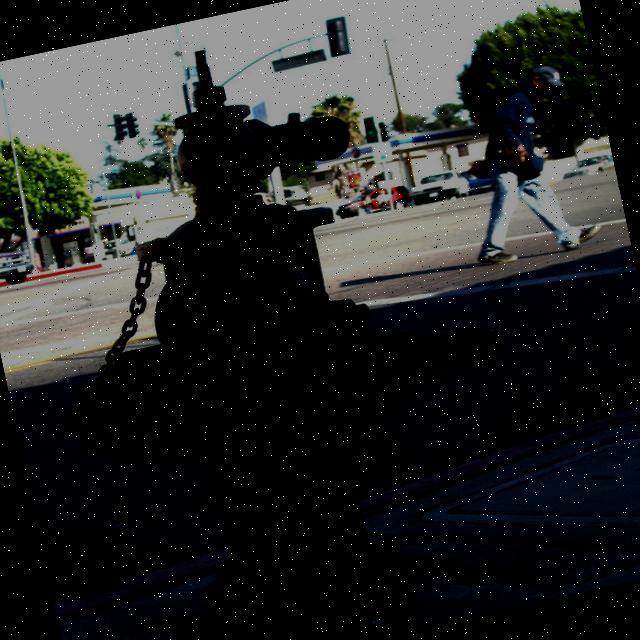fire_hydrant: (0, 1, 549, 640)
